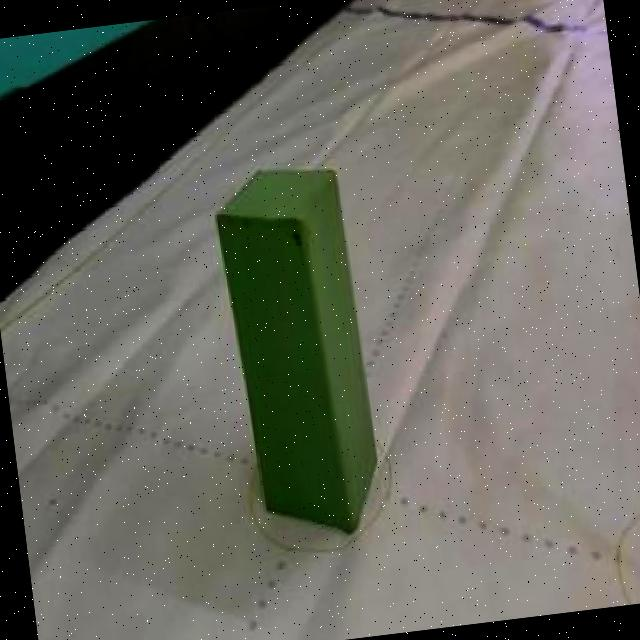greenbox: (206, 150, 388, 546)
